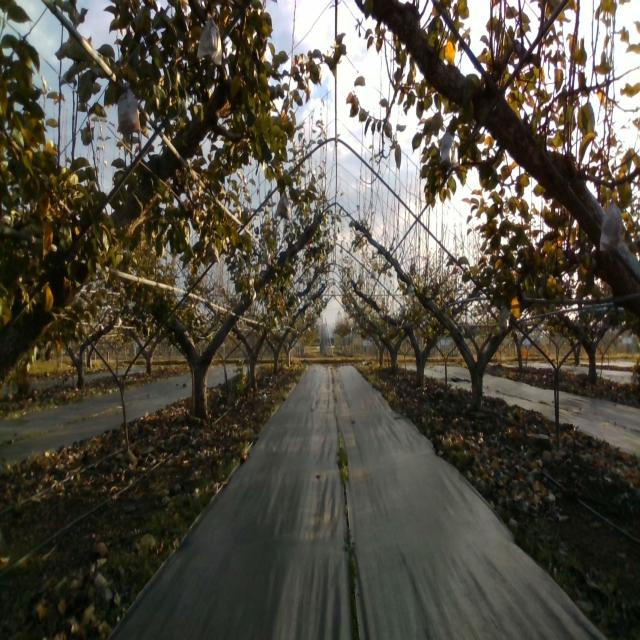pearbags: (197, 12, 222, 66), (117, 81, 141, 134), (599, 201, 623, 252), (438, 128, 458, 168), (276, 192, 292, 220), (498, 300, 509, 334), (204, 240, 220, 263)
